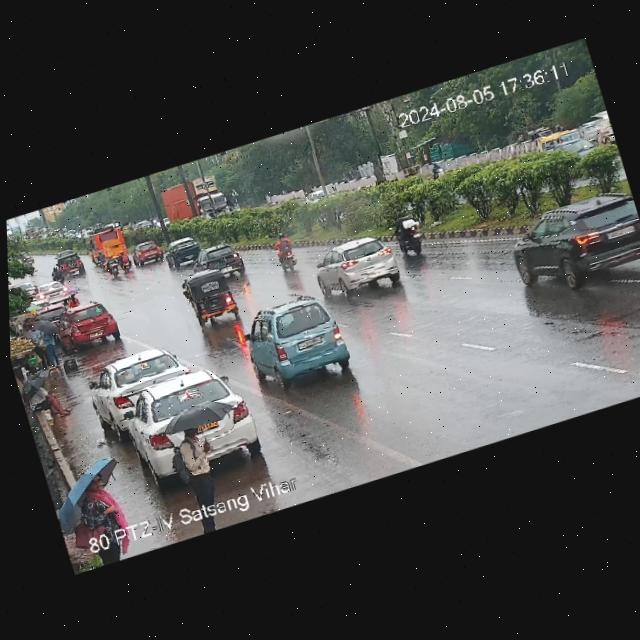bus: (81, 221, 131, 262)
car: (239, 286, 360, 396), (120, 361, 250, 450), (83, 340, 192, 426), (305, 225, 410, 308), (50, 295, 121, 355), (181, 261, 242, 327), (532, 124, 588, 161), (197, 240, 245, 280), (164, 234, 207, 268), (33, 276, 73, 307), (130, 239, 163, 268), (56, 252, 85, 279), (304, 185, 334, 205)
motorcycle: (390, 207, 436, 261), (264, 228, 308, 276), (102, 252, 122, 280), (117, 250, 136, 275), (429, 158, 446, 181), (49, 264, 61, 282)
person: (160, 403, 224, 508), (71, 466, 133, 531), (18, 371, 73, 430), (23, 314, 63, 369), (67, 292, 81, 307)
truck: (496, 184, 640, 309), (158, 169, 233, 232)
